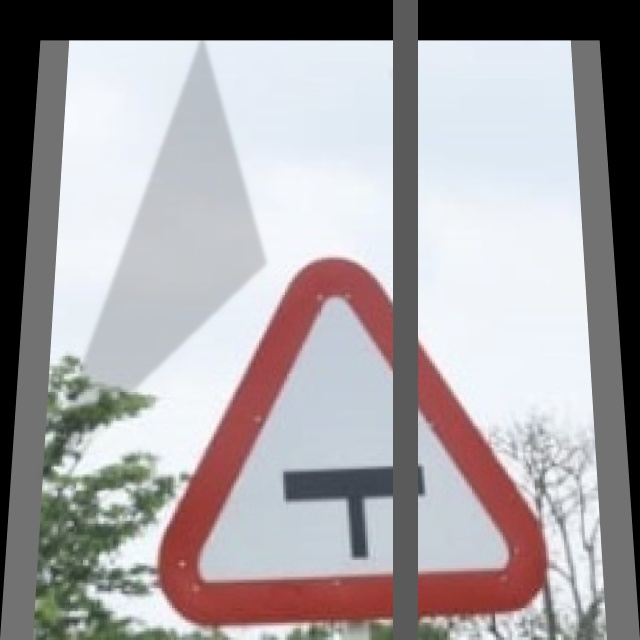T_Intersection: (164, 259, 548, 609)
